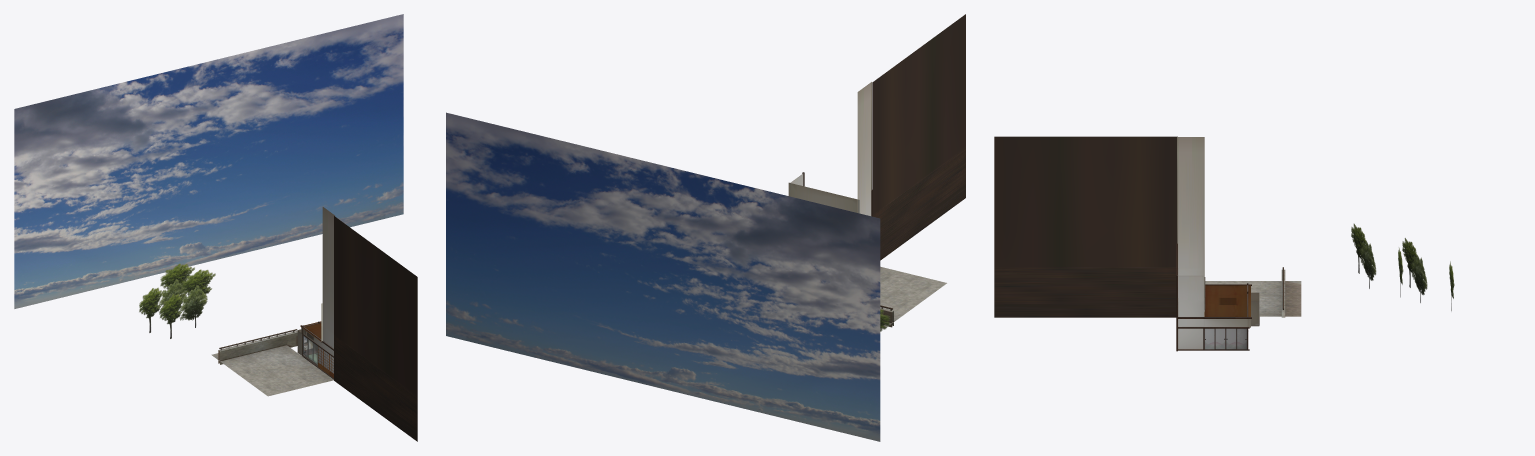
File: TatamiDeathmatch.glb
The picture shows the model from 3 angles, left to right: view 1: azimuth 30°, elevation 25°; view 2: azimuth 150°, elevation 25°; view 3: azimuth 270°, elevation 25°; orthographic projection. The views are drawn at different scales.
Parts seen in each view (by area): view 1: 0001, 0003, 0118, 0116, 0117, 0113, 0112, 0004; view 2: 0001, 0003; view 3: 0003, 0004.
Boxes of the visible parts, <box> form: 0001: <box>14,14,403,308</box>; 0003: <box>211,207,417,441</box>; 0118: <box>180,285,207,327</box>; 0116: <box>181,269,215,295</box>; 0117: <box>160,293,184,338</box>; 0113: <box>139,287,163,332</box>; 0112: <box>160,263,194,289</box>; 0004: <box>303,332,333,378</box>; 0001: <box>446,112,880,441</box>; 0003: <box>788,14,965,329</box>; 0003: <box>994,136,1301,351</box>; 0004: <box>1204,310,1247,349</box>.
Size of the model in its own units: 508 by 260 by 542.
122 materials, 122 textured.
